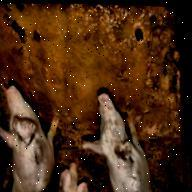boar: (76, 90, 154, 192), (0, 83, 66, 192), (55, 162, 88, 192)
